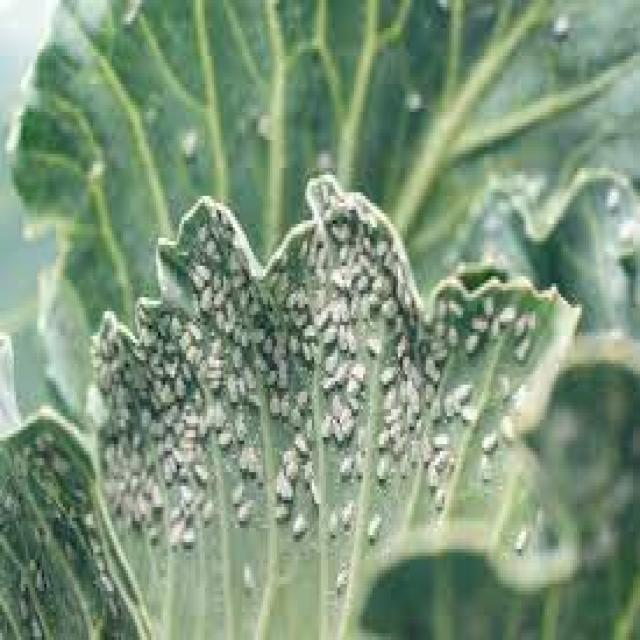Whitefly: (86, 177, 552, 616)
